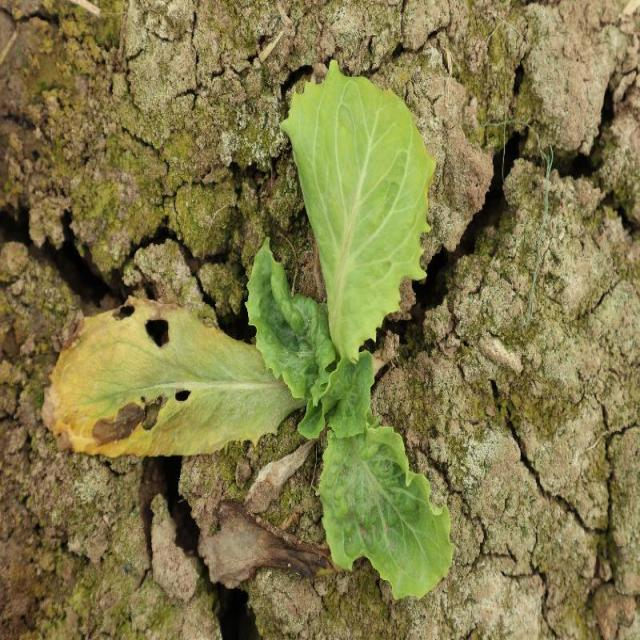crop: (242, 59, 456, 603)
